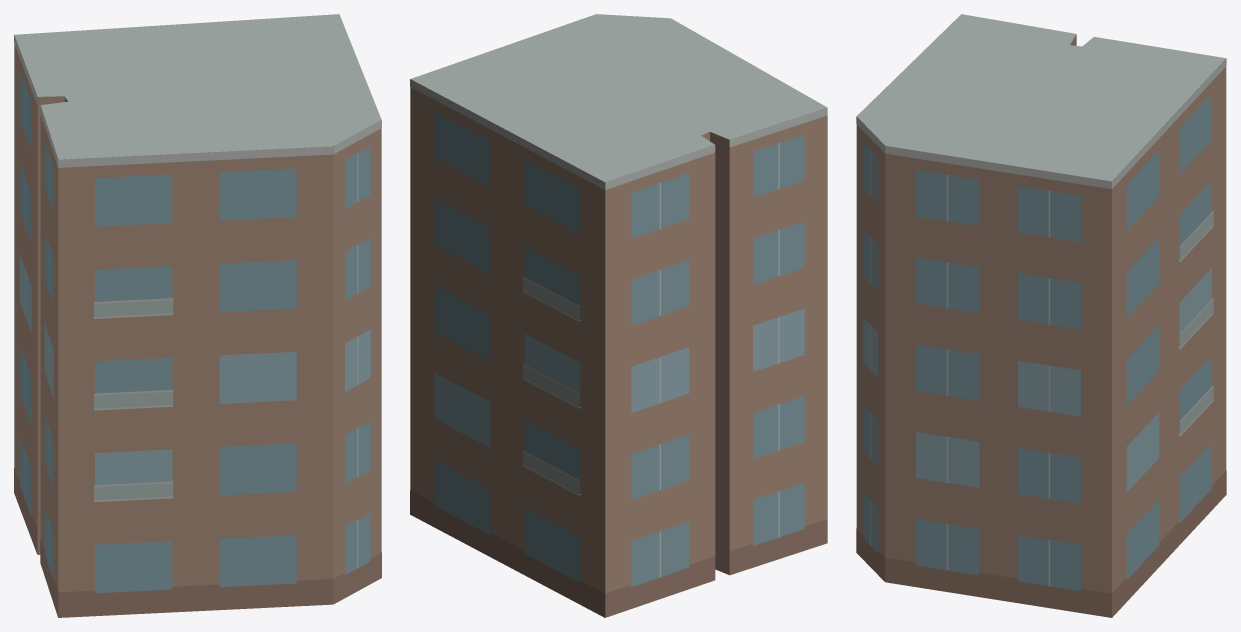
The model's file is survey-upis-32535445.glb.
The picture shows the model from 3 angles, left to right: view 1: azimuth 30°, elevation 25°; view 2: azimuth 150°, elevation 25°; view 3: azimuth 270°, elevation 25°; orthographic projection. The views are drawn at different scales.
Visible parts, largest first — view 1: survey-upis-32535445.tmp; view 2: survey-upis-32535445.tmp; view 3: survey-upis-32535445.tmp.
Boxes of the visible parts, x1,y1,x2,y2 form: survey-upis-32535445.tmp: (14, 14, 381, 617); survey-upis-32535445.tmp: (410, 14, 827, 617); survey-upis-32535445.tmp: (856, 14, 1226, 617).
Size of the model in its own units: 11.24 by 13.65 by 10.5.
